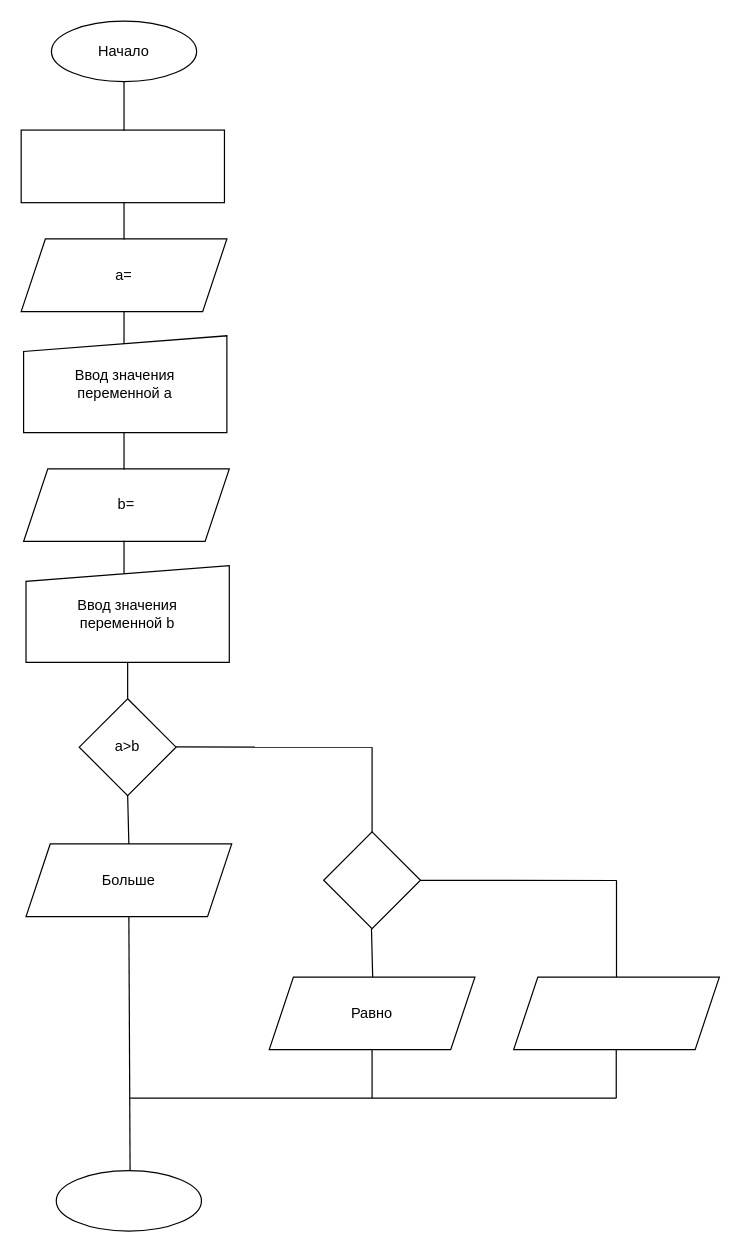
Image size: 741x1252. Some labels were removed from this diagram. The box of each missing label's shape, as (x1, y1, x2, y2) in pixels:
a=b: (322, 831, 420, 929)
Конец: (55, 1169, 201, 1231)
Меньше: (512, 976, 719, 1050)
Объявление переменных a,b: (20, 129, 224, 203)
